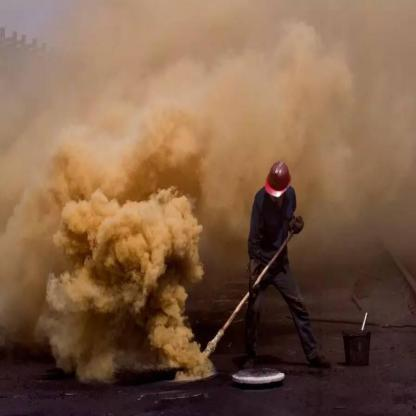smoke: (20, 96, 210, 387)
